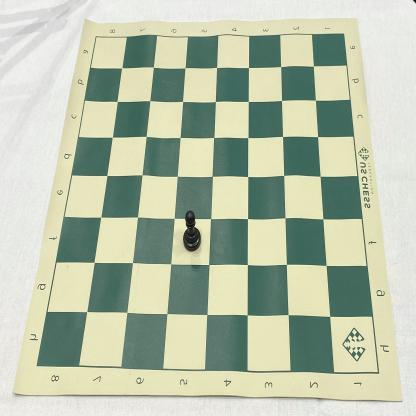black-pawn: (182, 208, 202, 253)
